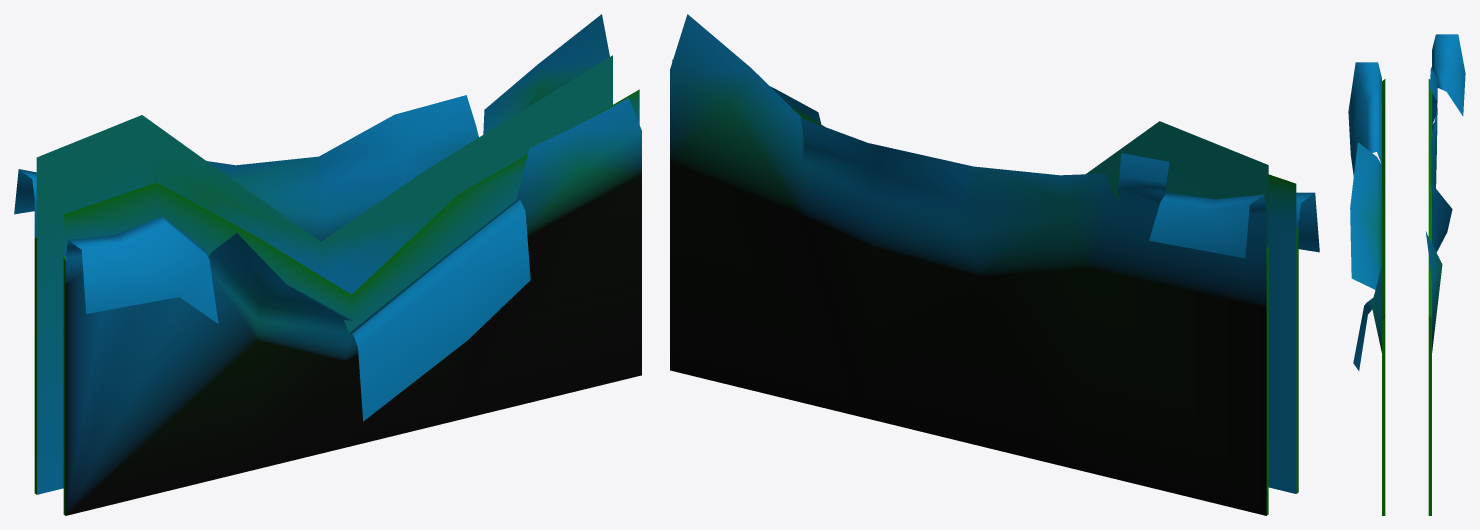
File: DBK_Drywall_Tile_A.fbx
3 renders of one model, left to right at view 1: azimuth 30°, elevation 25°; view 2: azimuth 150°, elevation 25°; view 3: azimuth 270°, elevation 25°, orthographic. The views are drawn at different scales.
Visible parts, largest first — view 1: DBK_Drywall_Tile_A; view 2: DBK_Drywall_Tile_A; view 3: DBK_Drywall_Tile_A.
Boxes of the visible parts, x1,y1,x2,y2 form: DBK_Drywall_Tile_A: (14, 14, 641, 515); DBK_Drywall_Tile_A: (670, 14, 1319, 515); DBK_Drywall_Tile_A: (1348, 34, 1465, 515).
Size of what is drawn, in the model's own units: 300 by 176 by 65.12.
